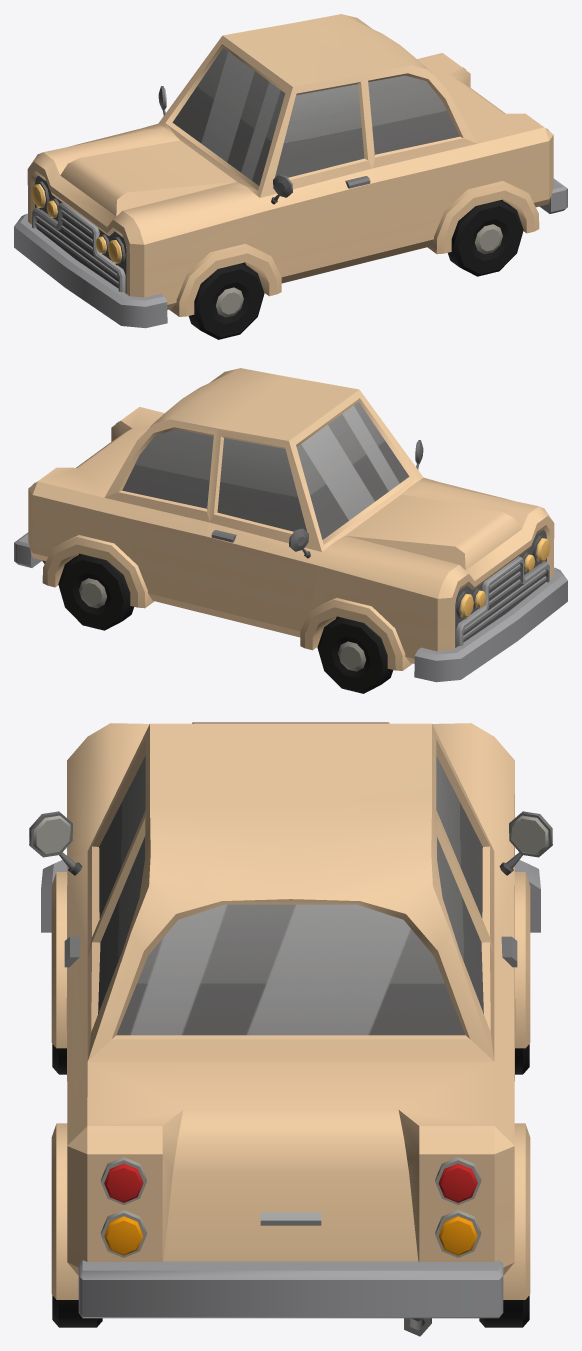
Rendered from Car_7_Y.gltf.
3 views of the same model, one above another, from view 1: azimuth 30°, elevation 25°; view 2: azimuth 150°, elevation 25°; view 3: azimuth 270°, elevation 25° (orthographic). The views are drawn at different scales.
Visible parts, largest first — view 1: Car_7_Y, RL, FL; view 2: Car_7_Y, RR, FR; view 3: Car_7_Y, RL, RR.
Part boxes in pixels (box(x1,y1,x2,y2)): Car_7_Y: box(14, 14, 567, 328); RL: box(448, 200, 523, 276); FL: box(188, 263, 264, 339); Car_7_Y: box(14, 368, 567, 682); RR: box(58, 554, 133, 630); FR: box(317, 617, 393, 693); Car_7_Y: box(29, 722, 552, 1336); RL: box(52, 1295, 102, 1327); RR: box(479, 1295, 529, 1327).
Bounding box in the file's own units: 3.38 × 1.52 × 1.7.
Materials: 3 (3 with a texture image).
